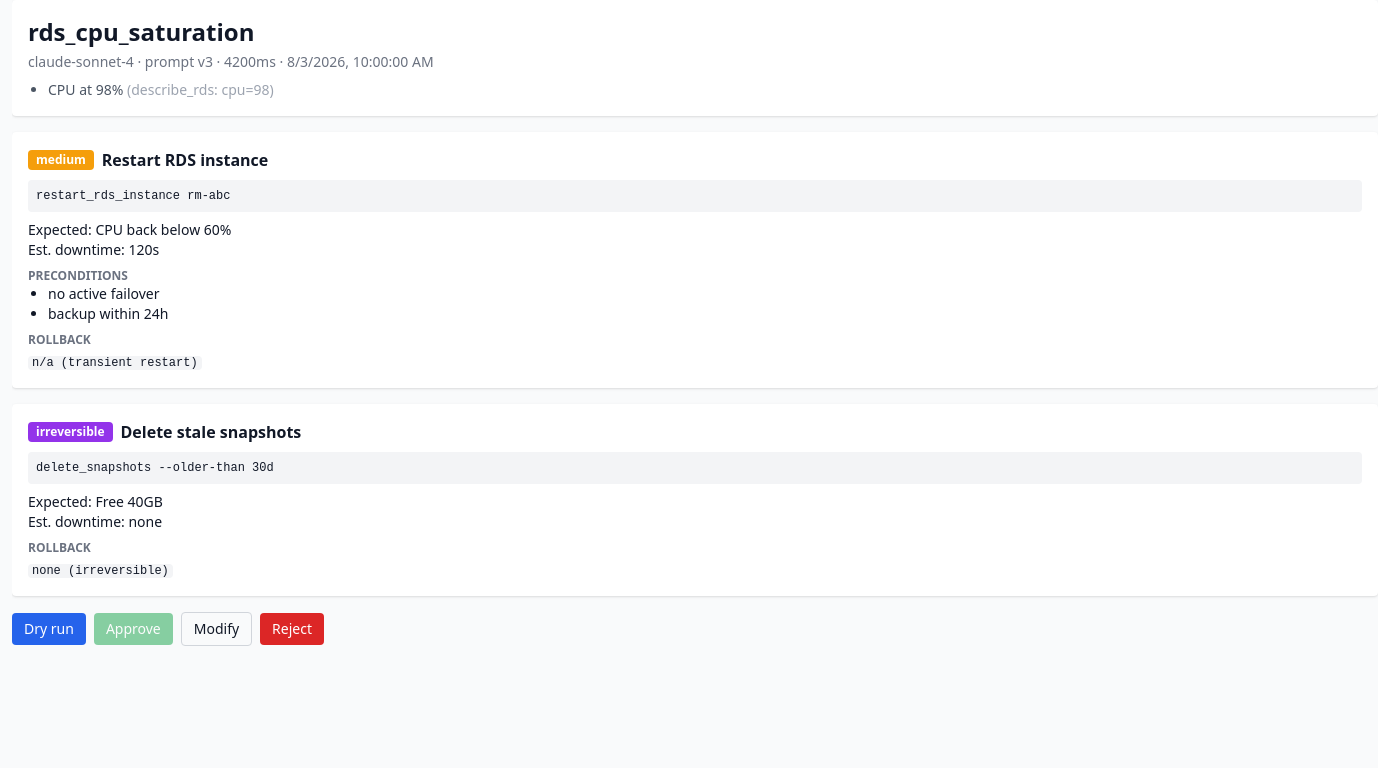
Test: AnalysisPage › shows error when dry-run plan fails
This screenshot has width=1378, height=768.
Click the button with test id "btn-dry-run" at [49, 629], box [12,613,86,645]
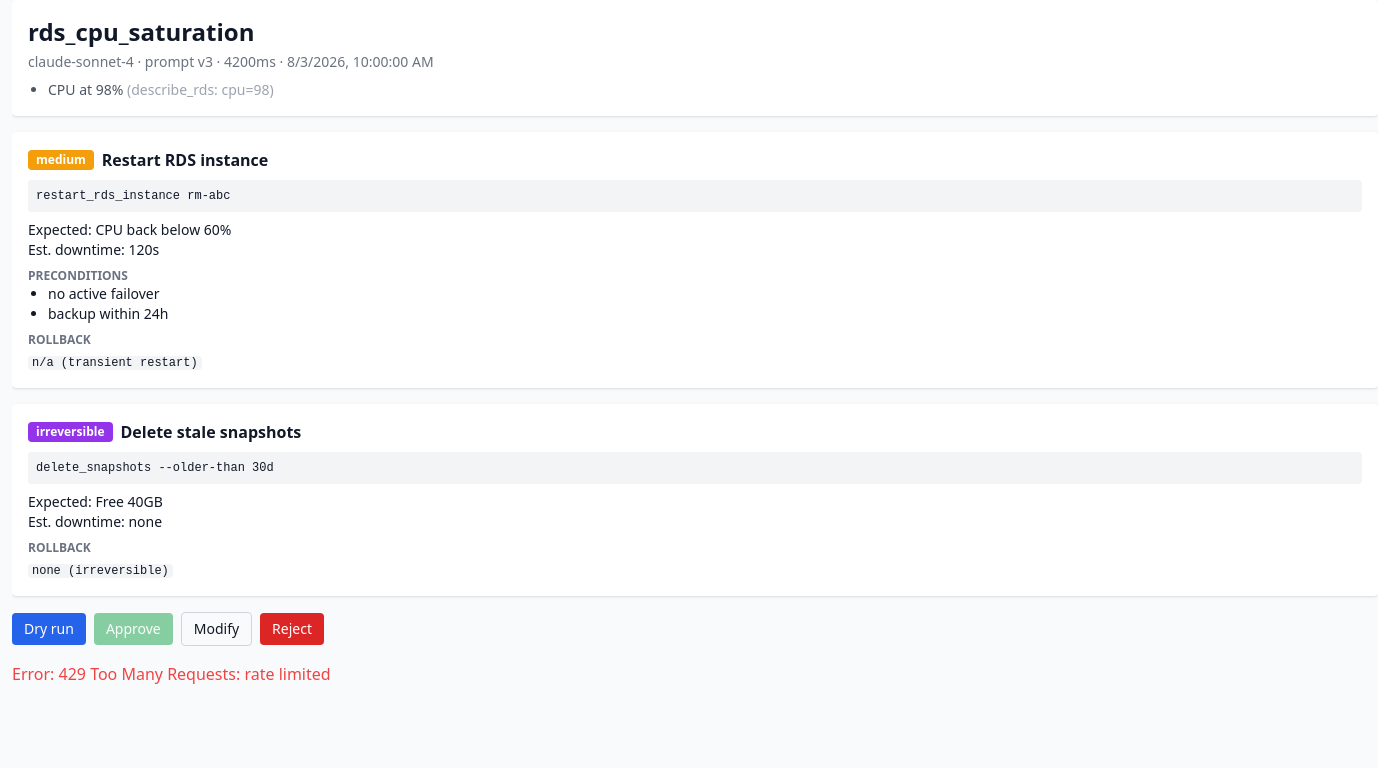
expect the button with test id "btn-approve" is disabled: met, box [94,613,173,645]
expect the text "Error: 429 Too Many Requests: rate limited" is shown: met, box [12,663,331,685]
